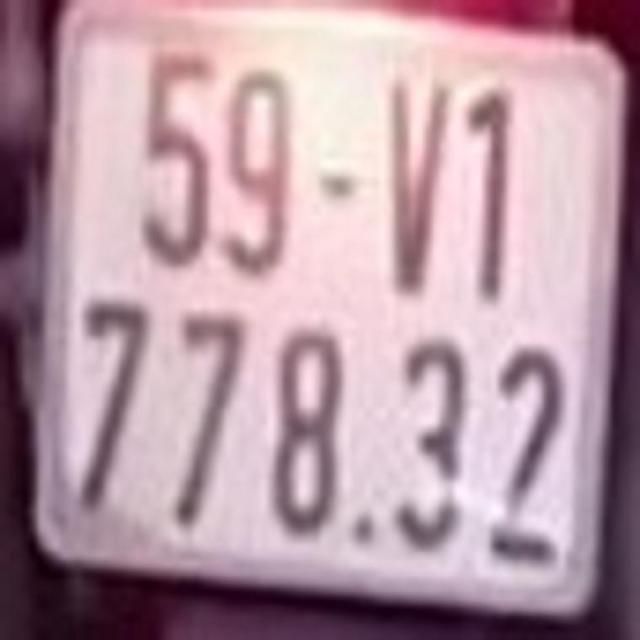1: (458, 66, 517, 303)
2: (492, 331, 565, 575)
3: (396, 326, 466, 556)
5: (142, 38, 212, 268)
7: (76, 287, 148, 507), (172, 308, 242, 522)
8: (272, 316, 340, 535)
9: (220, 56, 292, 281)
V: (378, 62, 453, 292)
